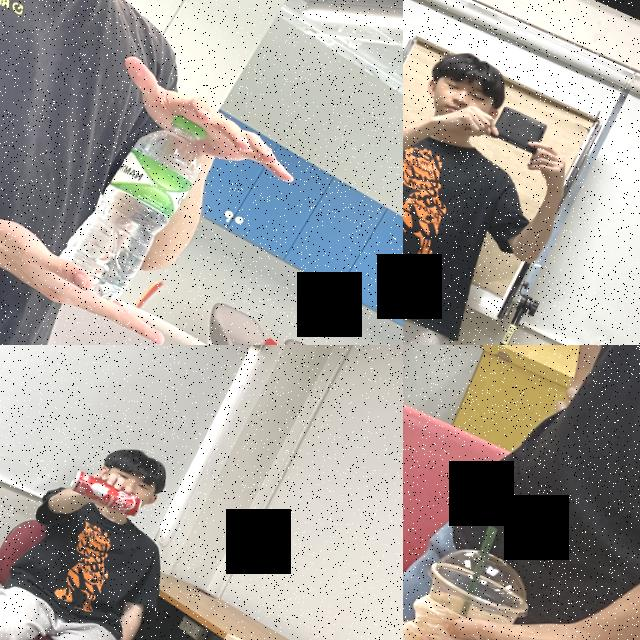bottle: (49, 92, 220, 316)
can: (67, 469, 144, 520)
cup: (403, 531, 543, 640)
